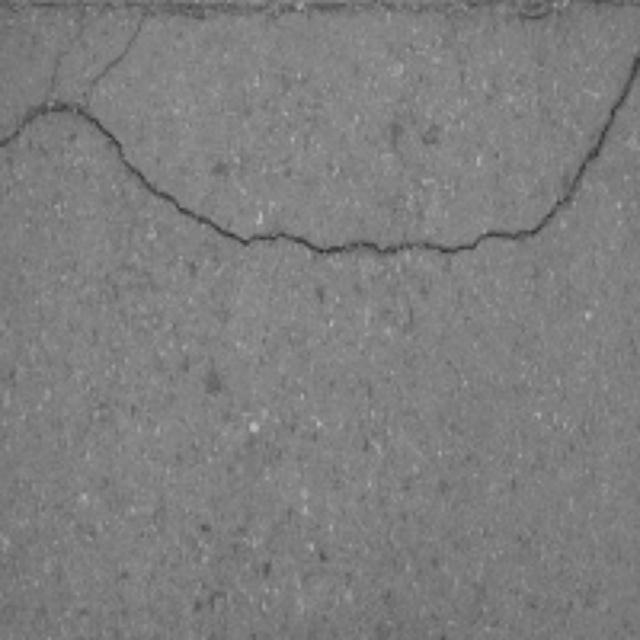Crack: (8, 44, 640, 301)
